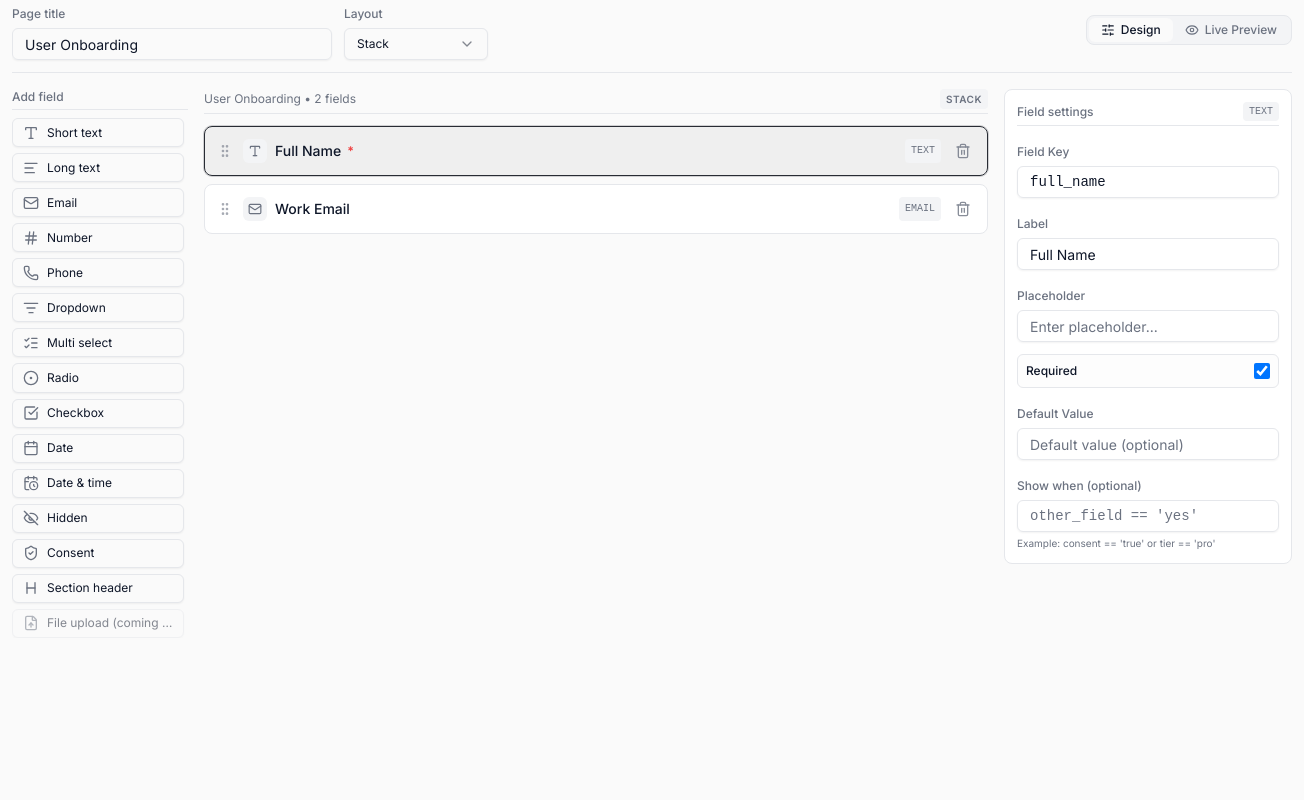
Test: FormSchemaBuilder Component › toggles to Live Preview mode and renders the interactive form
Step 1. Click the button "Live Preview" → (1231, 30), box [1173,18,1289,42]
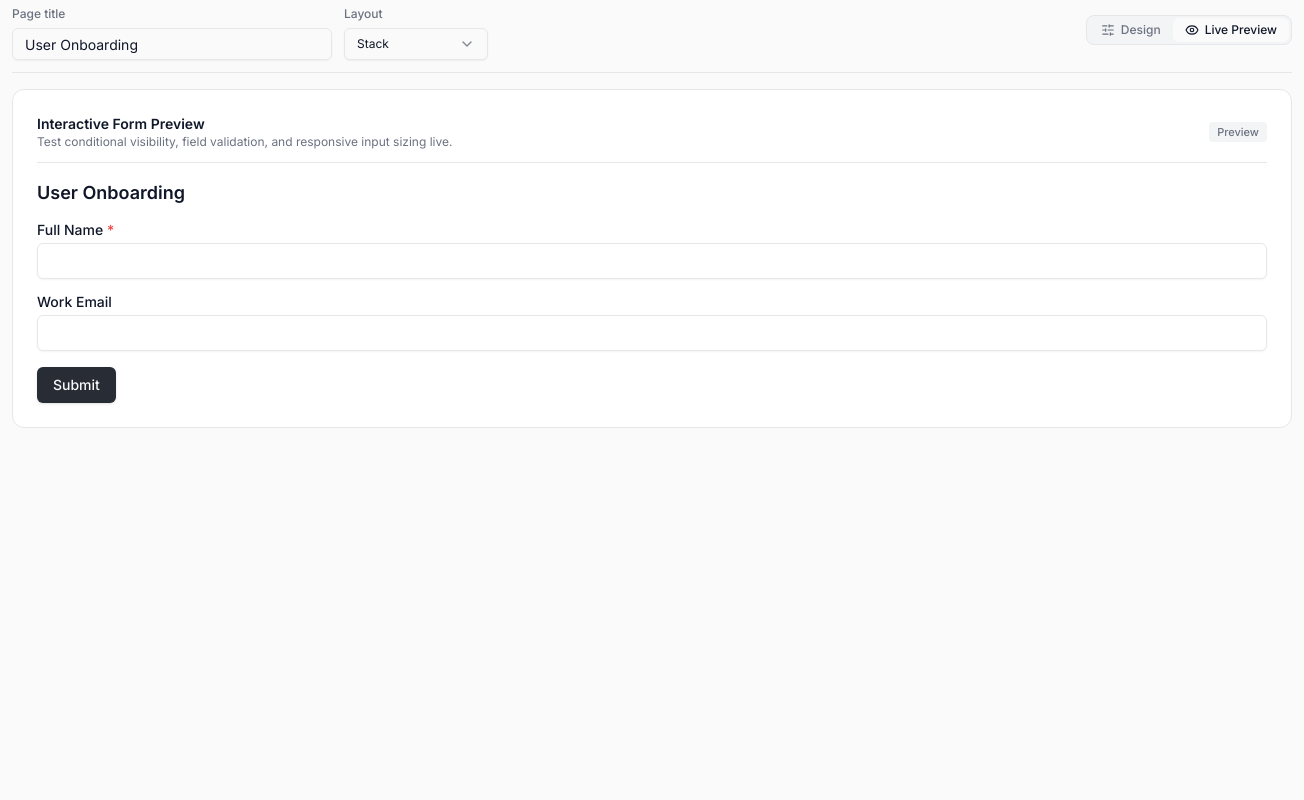
Now the heading "Interactive Form Preview" is shown, box [37,115,205,132]
Now the button "Submit" is shown, box [37,367,116,403]
